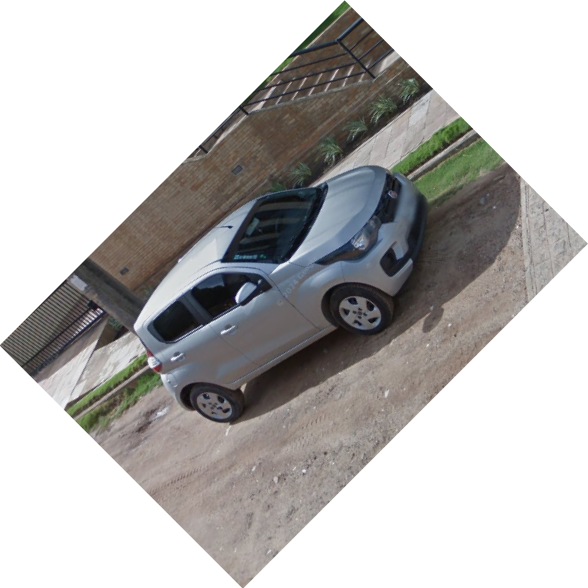car: (131, 163, 427, 425)
